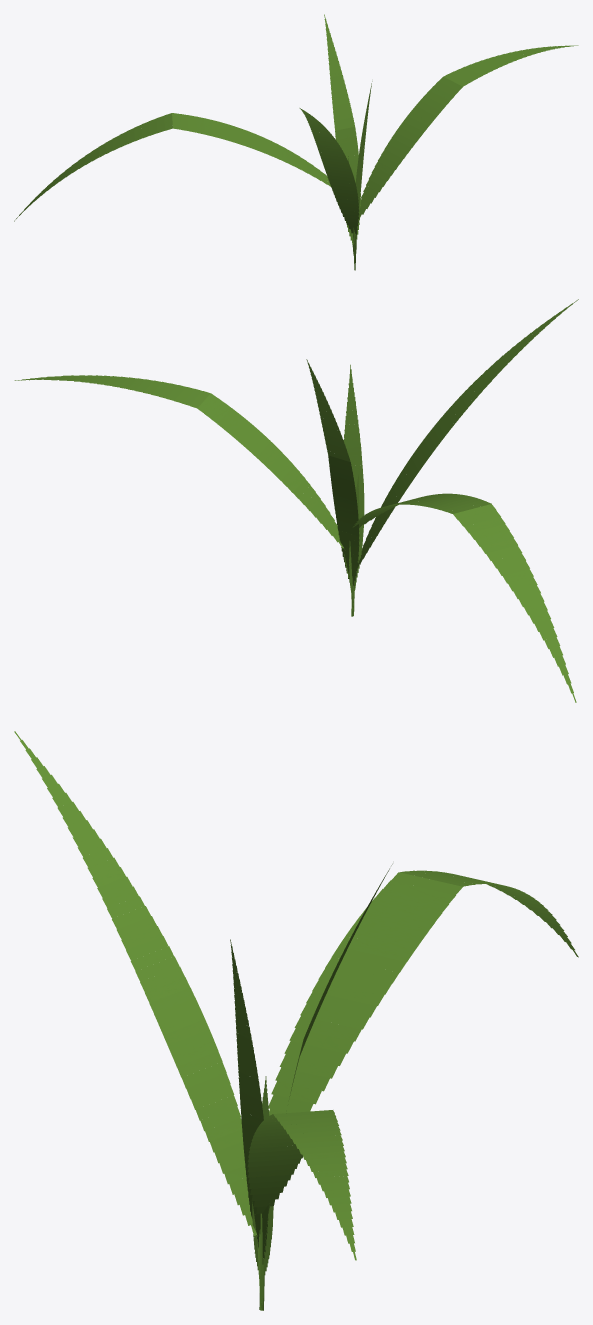
Rendered from maize_005_day_055.dae.
3 views of the same model, one above another, from view 1: azimuth 30°, elevation 25°; view 2: azimuth 150°, elevation 25°; view 3: azimuth 270°, elevation 25° (orthographic). The views are drawn at different scales.
Parts seen in each view (by area): view 1: node; view 2: node; view 3: node.
Boxes of the visible parts, x1,y1,x2,y2 form: node: [14, 14, 578, 270]; node: [14, 299, 578, 702]; node: [14, 731, 578, 1310].
Size of the model in its own units: 0.5526 by 0.2467 by 0.2714.
1 material, 1 textured.
